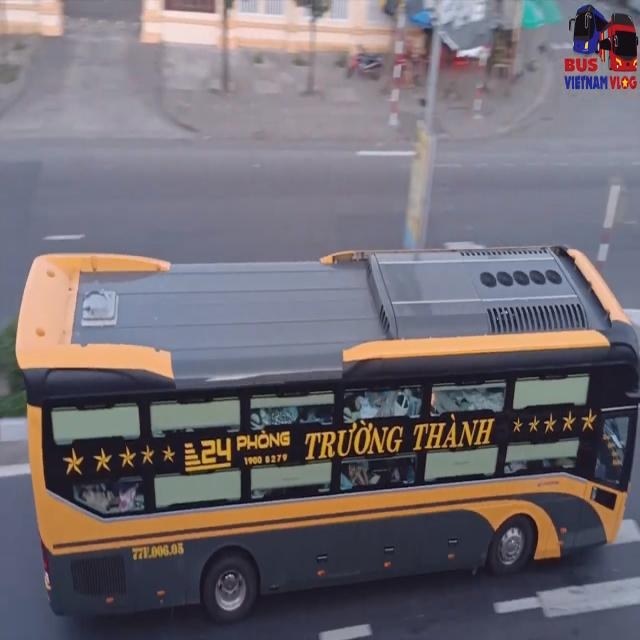bus: (17, 257, 632, 616)
